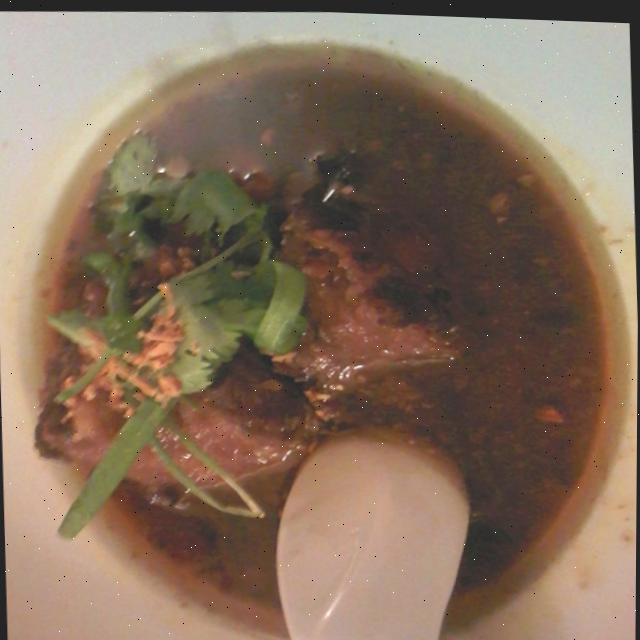汤锅炖物: (2, 2, 637, 640)
